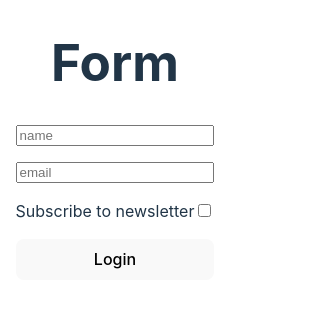
Test: RegistrationForm › should display error message for invalid email
This screenshot has width=320, height=323.
Type "John Doe" into the field with placeholder "name" at (116, 136), box left=16, top=125, right=215, bottom=146
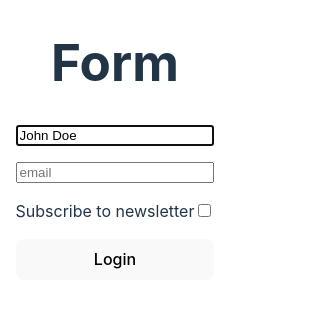
Type "invalid-email" into the field with placeholder "email" at (116, 173), box left=16, top=162, right=215, bottom=183
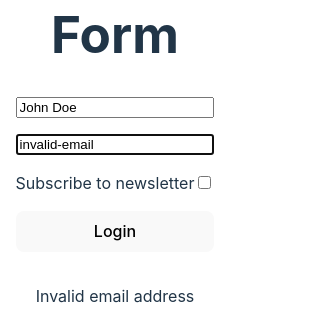
expect the text "Invalid email address" is shown: met, box left=36, top=286, right=194, bottom=306
